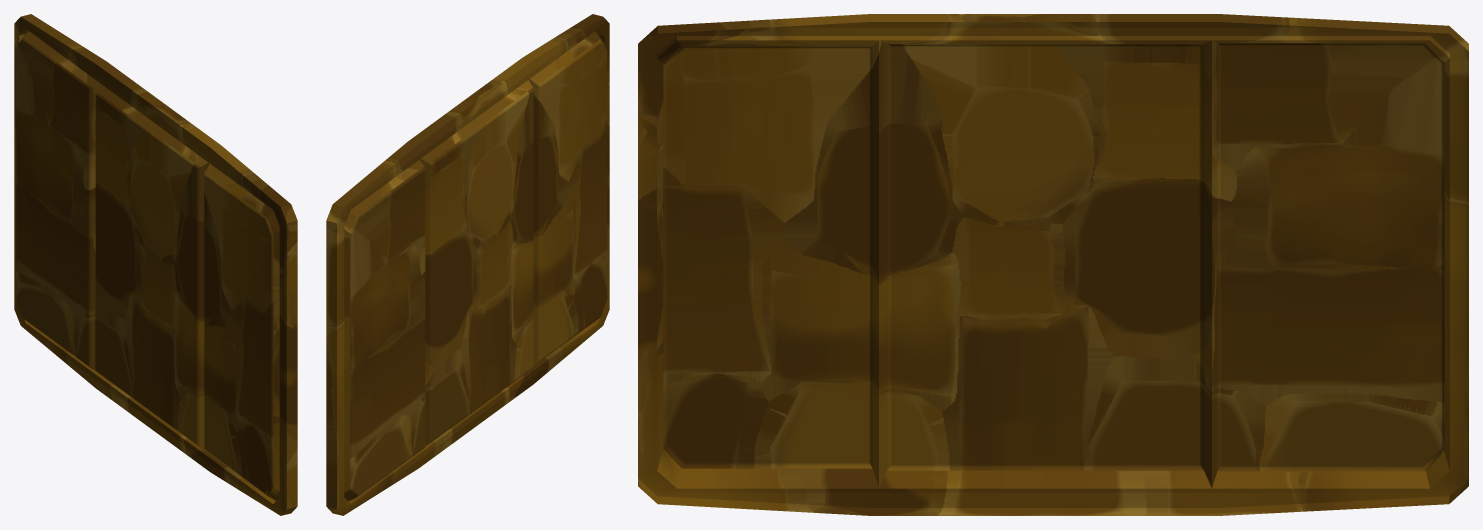
File: BiomeSelect 1.fbx
3 views of the same model, side by side, from view 1: azimuth 30°, elevation 25°; view 2: azimuth 150°, elevation 25°; view 3: azimuth 270°, elevation 25° (orthographic). The views are drawn at different scales.
Parts seen in each view (by area): view 1: BiomeSelect; view 2: BiomeSelect; view 3: BiomeSelect.
Boxes of the visible parts, box(x1,y1,x2,y2) form: BiomeSelect: box(14, 14, 297, 515); BiomeSelect: box(326, 14, 609, 515); BiomeSelect: box(638, 14, 1468, 515).
Size of the model in its own units: 0.15 by 2.62 by 4.
